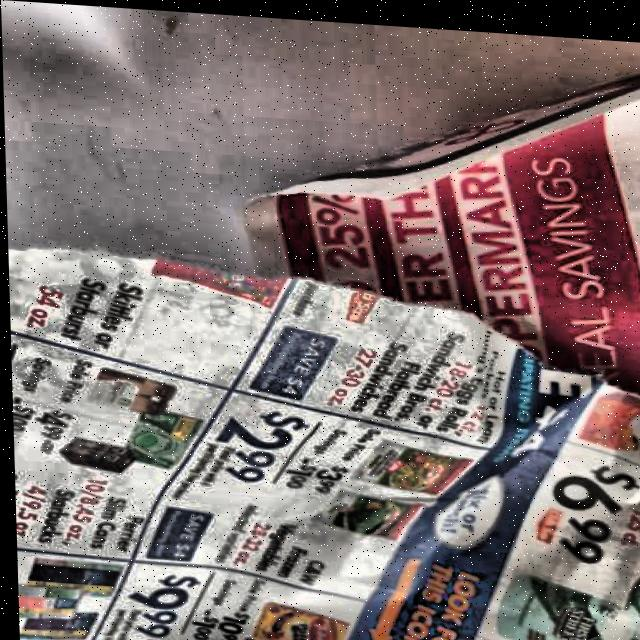paper: (1, 31, 640, 640)
